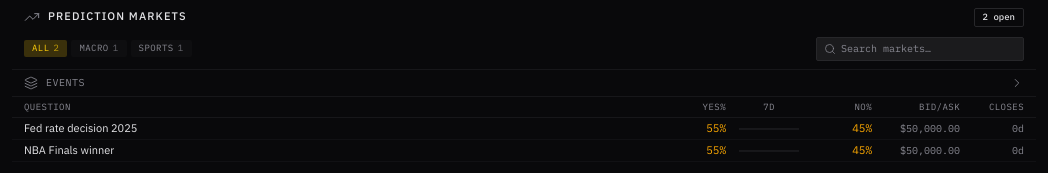
Test: PredictionMarketsPage › filters by search term entered into the search input
Expected: the text "Fed rate decision 2025" is shown, [24,121,137,136]
Type "nba" into the field with placeholder "Search markets…".
click(920, 49); type("nba")  # box [816,37,1024,61]
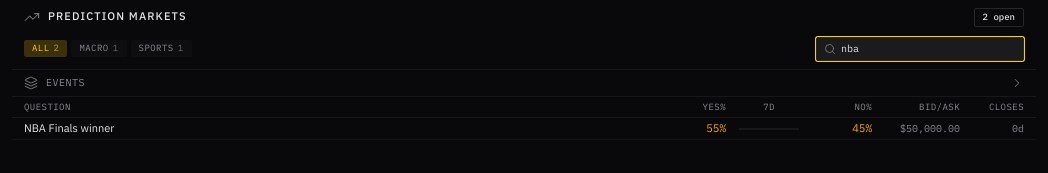
Expected: the text "NBA Finals winner" is shown, [24,121,114,136]
Now the button "Fed rate decision 2025" is gone
